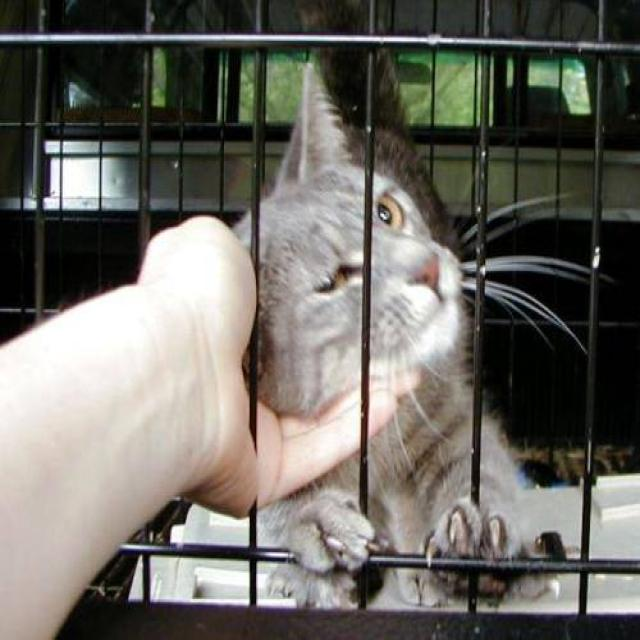cat: (227, 0, 600, 611)
